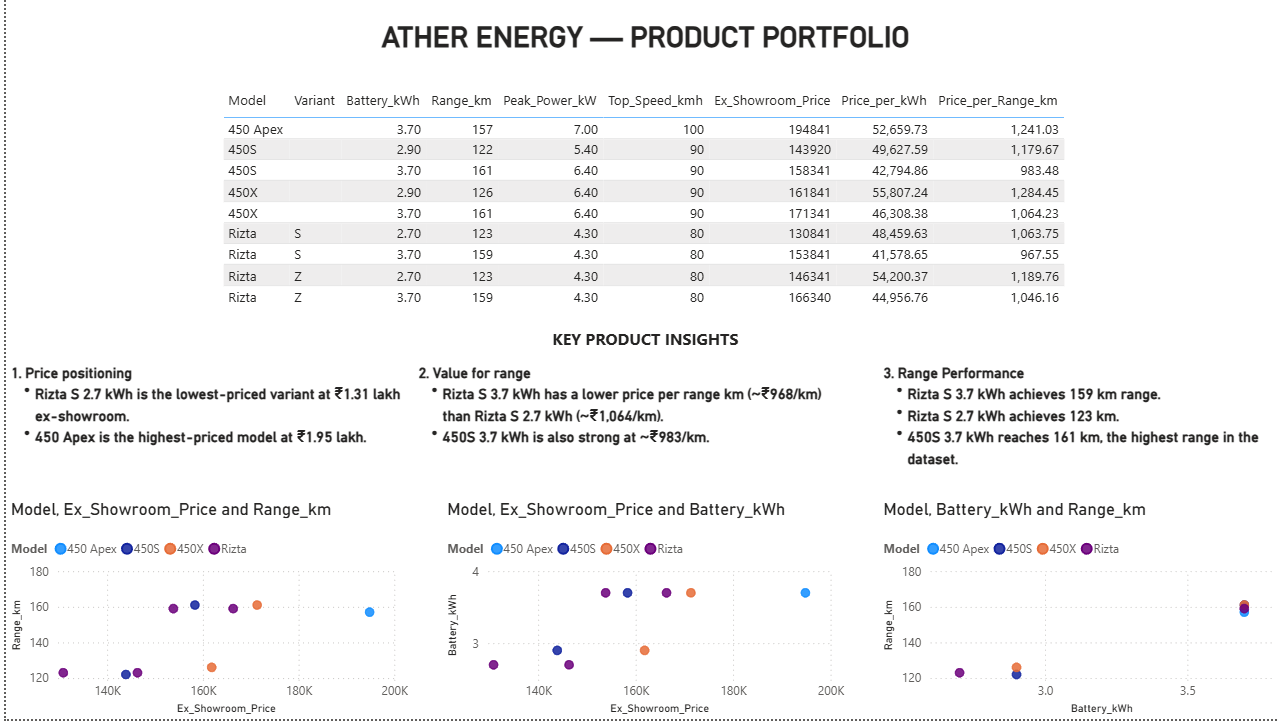

The page's visual inventory and layout, read from the dashboard file:
{"tool":"powerbi","page":{"name":"Page 2","canvas":[1280,720],"ordinal":1},"visuals":[{"type":"textbox","box":[365,16.2,548.8,68.8],"z":0},{"type":"tableEx","fields":{"Values":["ather_product_analysis.Model","ather_product_analysis.Variant","ather_product_analysis.Battery_kWh","ather_product_analysis.Range_km","ather_product_analysis.Peak_Power_kW","ather_product_analysis.Top_Speed_kmh","ather_product_analysis.Ex_Showroom_Price","ather_product_analysis.Price_per_kWh","ather_product_analysis.Price_per_Range_km"]},"box":[211.2,85,856.2,231.2],"z":1},{"type":"scatterChart","fields":{"X":["ather_product_analysis.Ex_Showroom_Price"],"Y":["ather_product_analysis.Range_km"],"Series":["ather_product_analysis.Model"]},"box":[0,500,407.5,220],"z":2},{"type":"scatterChart","fields":{"X":["ather_product_analysis.Battery_kWh"],"Y":["ather_product_analysis.Range_km"],"Series":["ather_product_analysis.Model"]},"box":[872.5,500,407.5,220],"z":3},{"type":"scatterChart","fields":{"X":["ather_product_analysis.Ex_Showroom_Price"],"Y":["ather_product_analysis.Battery_kWh"],"Series":["ather_product_analysis.Model"]},"box":[436.2,500,407.5,220],"z":4},{"type":"textbox","box":[533.8,323.8,211.2,36.2],"z":5},{"type":"textbox","box":[872.5,360,406.2,140],"z":6},{"type":"textbox","box":[0,360,407.5,118.8],"z":7},{"type":"textbox","box":[407.5,360,436.2,128.8],"z":8}]}

Visuals, with their boxes in screenshot pixels (x1, y1, x2, y2), scaled from the page's 1280x720 canvas onto the 1279x725 screenshot:
textbox: {"x1": 365, "y1": 16, "x2": 913, "y2": 86}
tableEx - ather_product_analysis.Model x ather_product_analysis.Variant: {"x1": 211, "y1": 86, "x2": 1067, "y2": 318}
scatterChart - ather_product_analysis.Ex_Showroom_Price x ather_product_analysis.Range_km: {"x1": 0, "y1": 503, "x2": 407, "y2": 724}
scatterChart - ather_product_analysis.Battery_kWh x ather_product_analysis.Range_km: {"x1": 872, "y1": 503, "x2": 1278, "y2": 724}
scatterChart - ather_product_analysis.Ex_Showroom_Price x ather_product_analysis.Battery_kWh: {"x1": 436, "y1": 503, "x2": 843, "y2": 724}
textbox: {"x1": 533, "y1": 326, "x2": 744, "y2": 362}
textbox: {"x1": 872, "y1": 362, "x2": 1278, "y2": 503}
textbox: {"x1": 0, "y1": 362, "x2": 407, "y2": 482}
textbox: {"x1": 407, "y1": 362, "x2": 843, "y2": 492}
